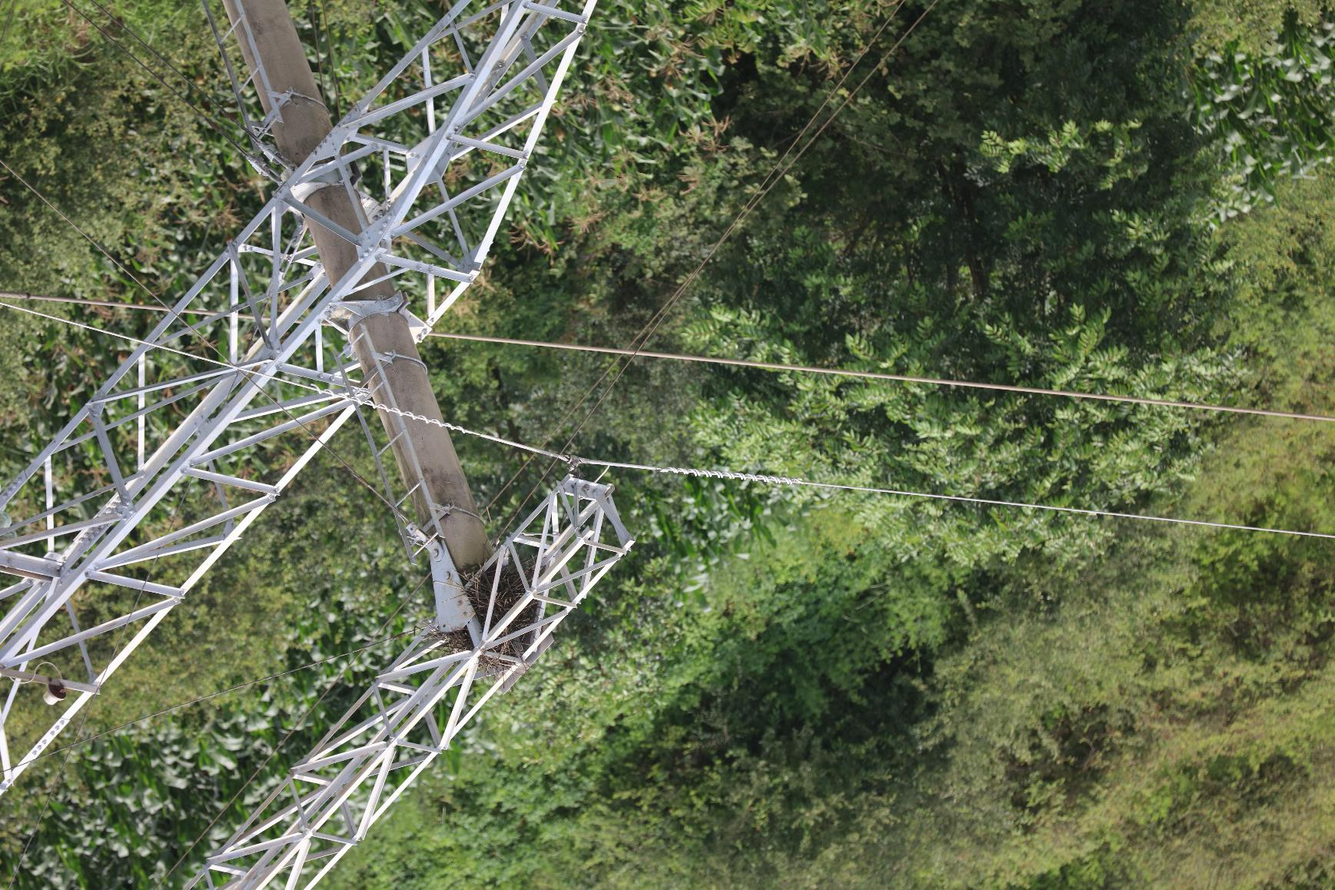nest: (440, 556, 543, 672)
